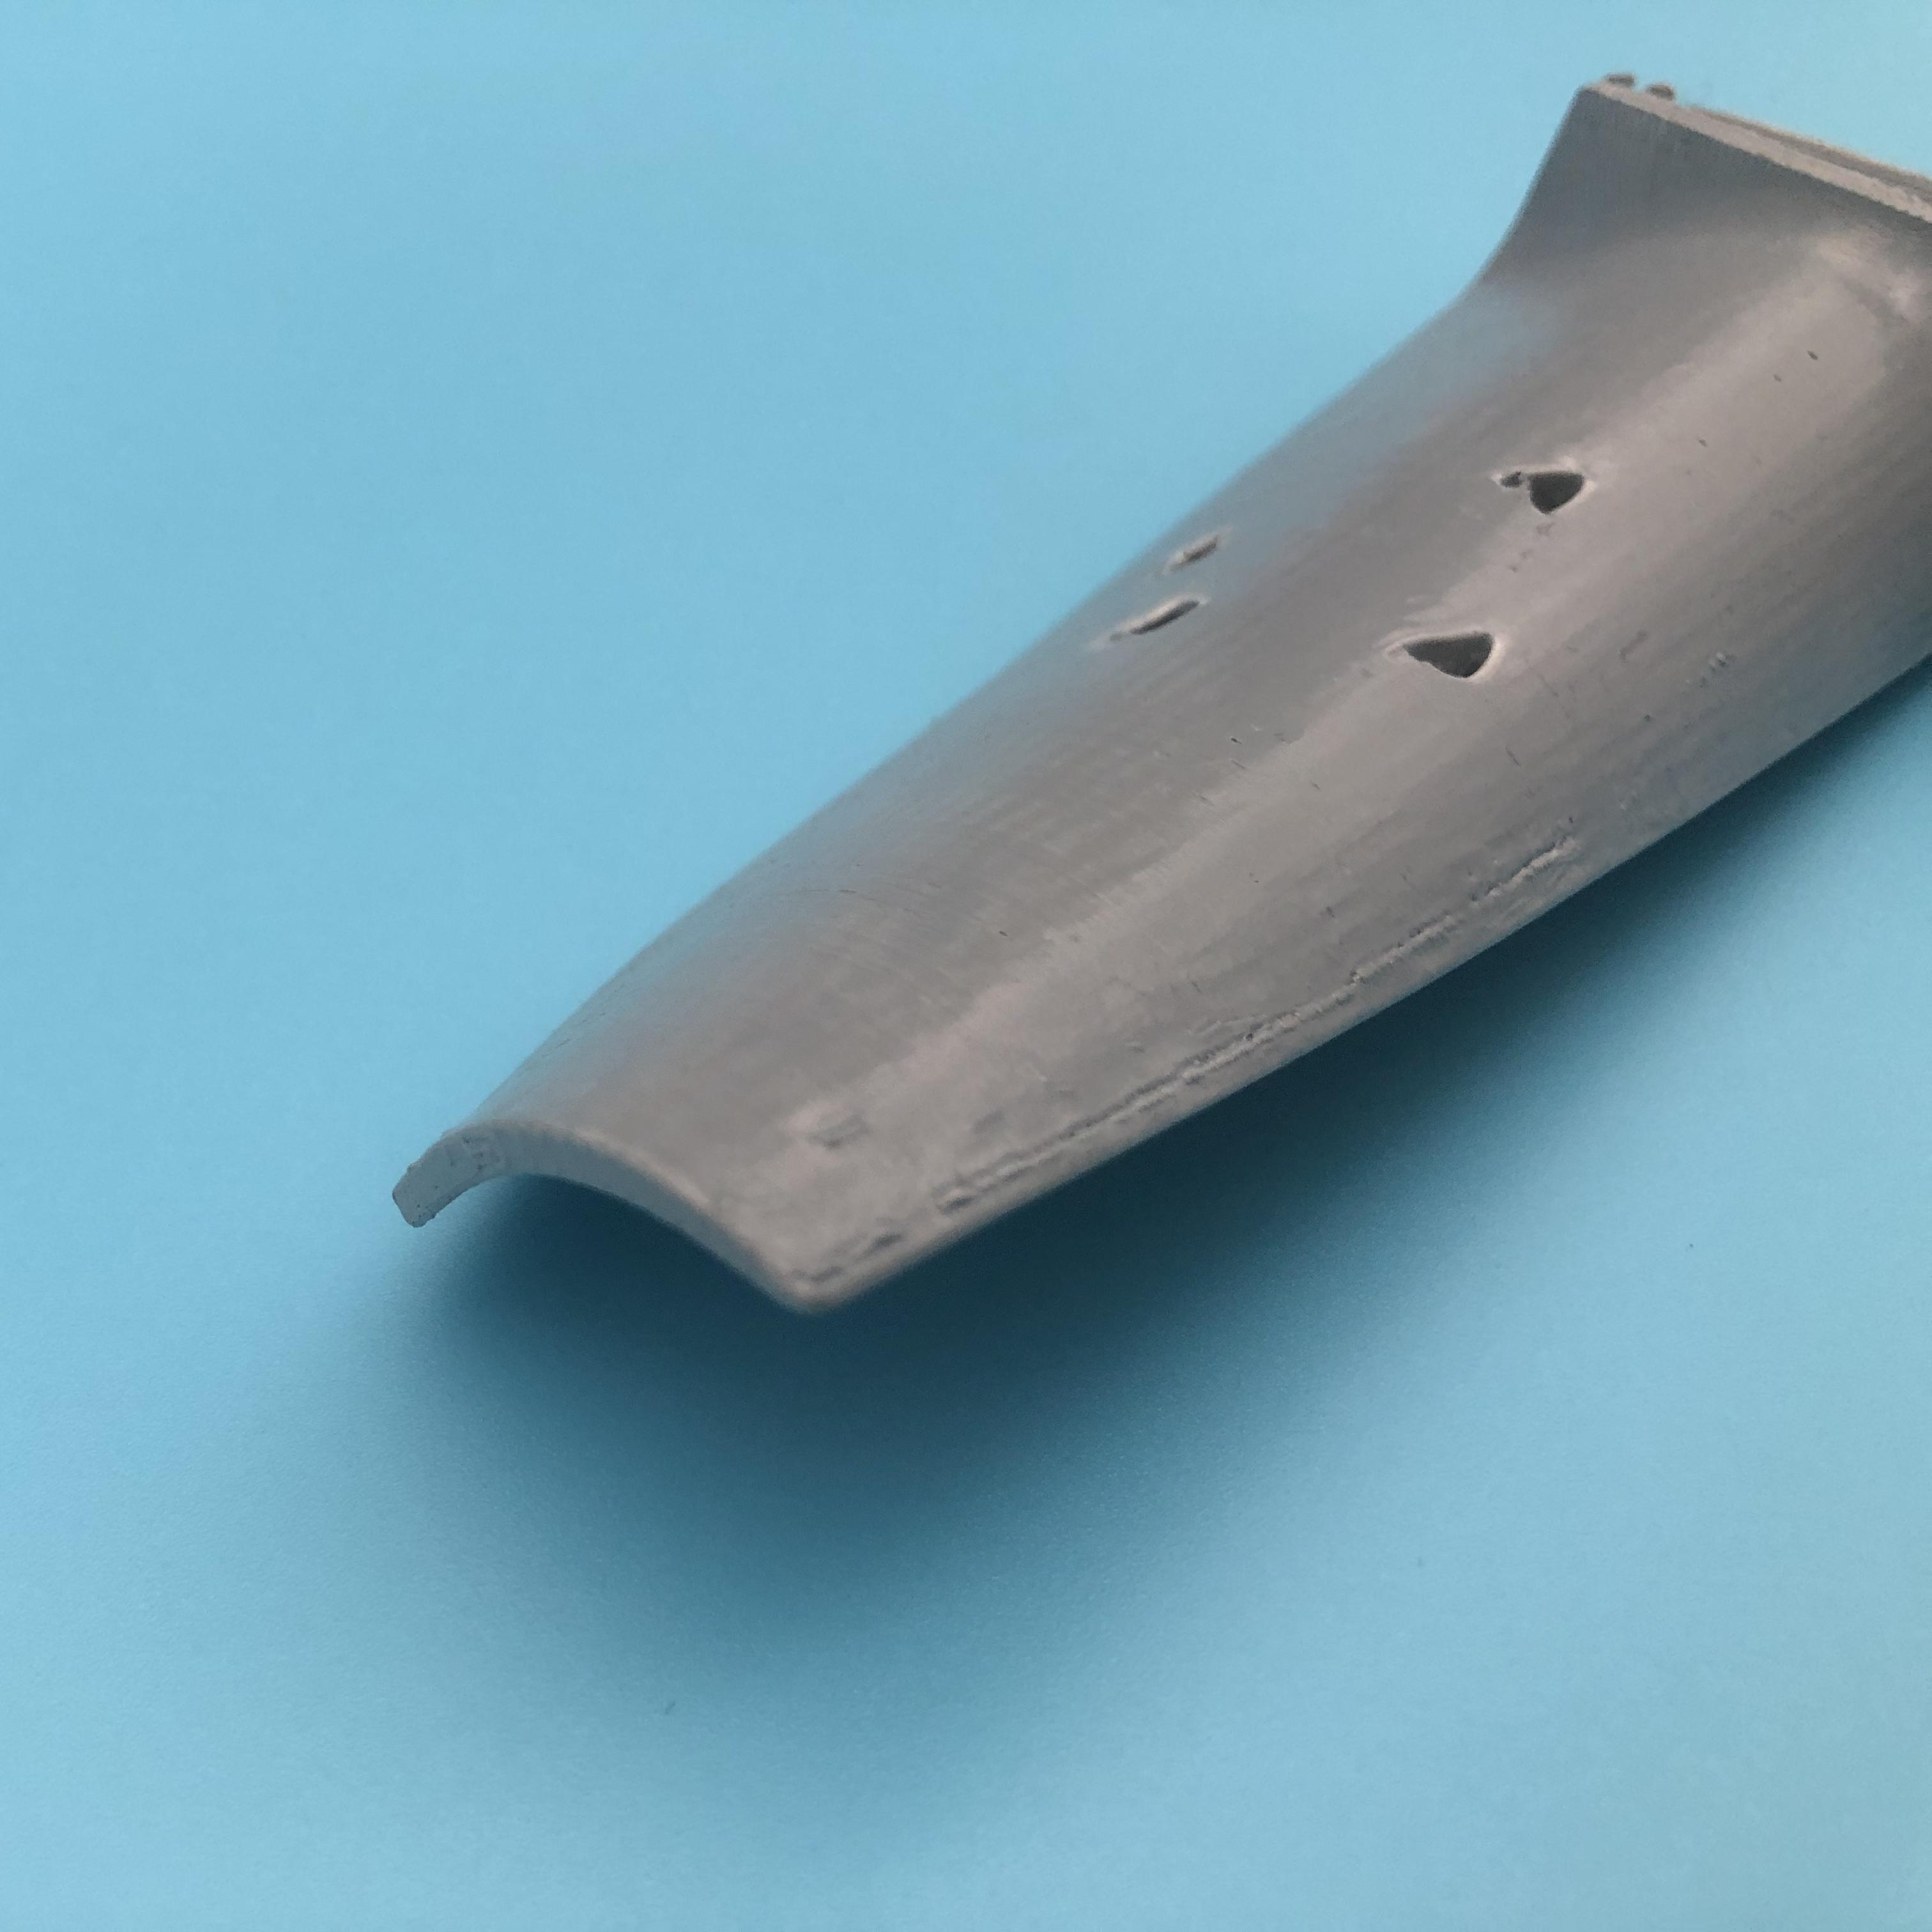breakdown: (1150, 522, 1537, 711), (1497, 453, 1605, 518)
